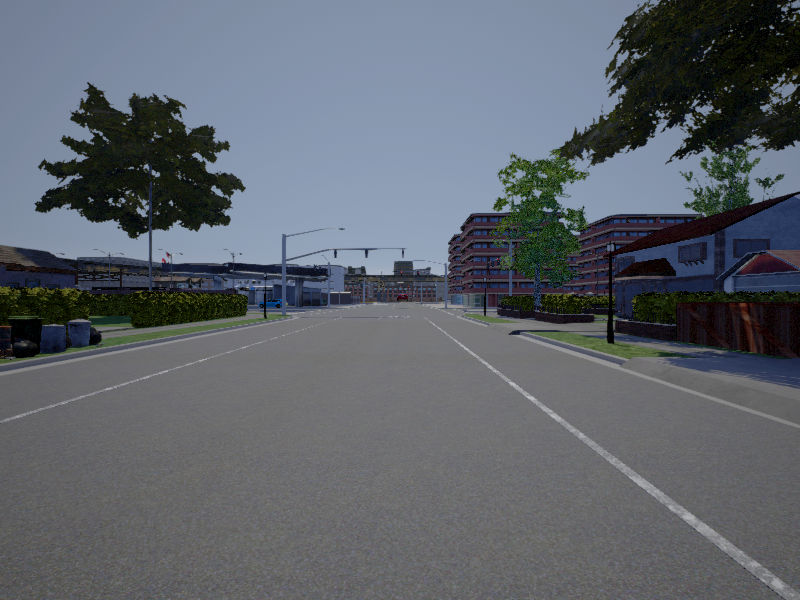Attacker: (396, 292, 408, 301)
